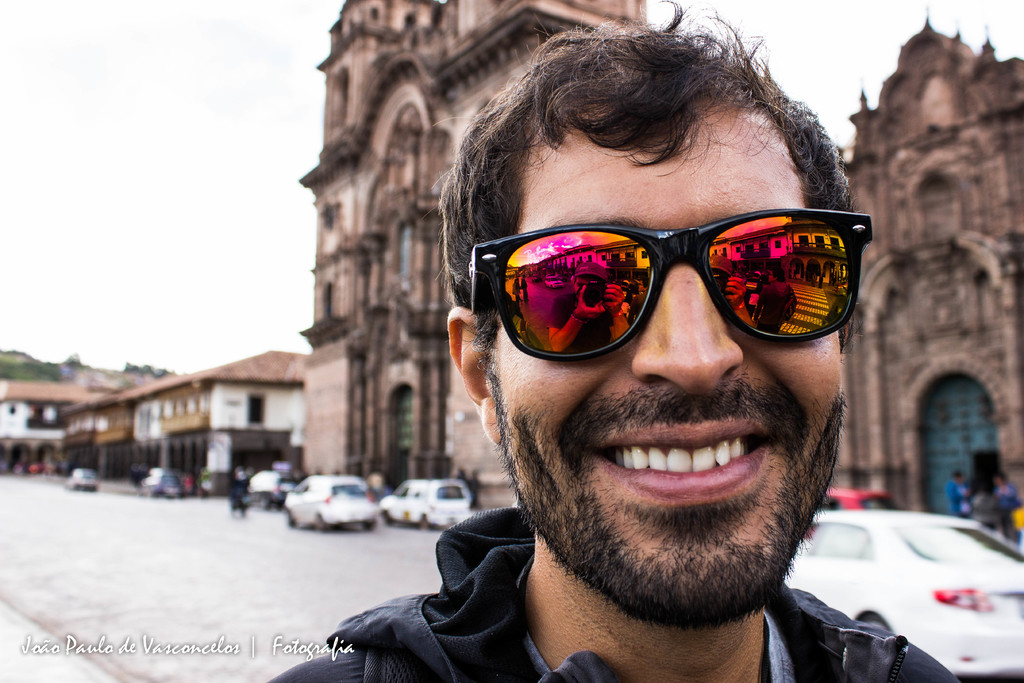car: (759, 477, 1024, 676), (271, 465, 390, 539), (372, 463, 491, 536)
